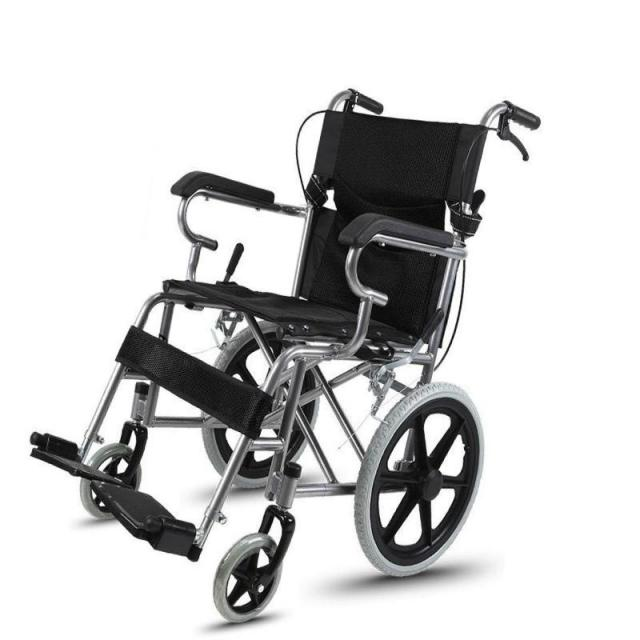wheelchair: (17, 76, 555, 640)
